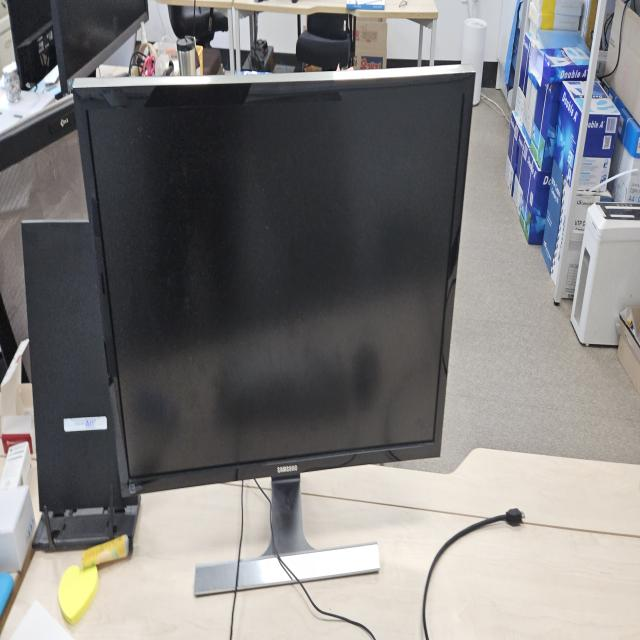Monitor: (70, 61, 476, 594)
